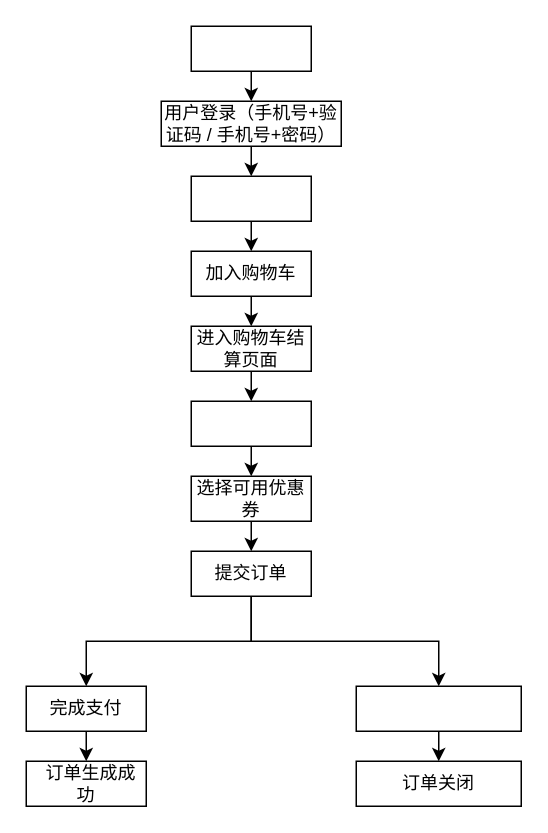
The diagram is 548 pixels wide and 833 high, and some of its shapes have lost their labels. Here are the shapes that lost their labels. From the top down, the centre of each, then its label:
At pixel 250 48: "打开电商小程序".
At pixel 250 198: "浏览商品列表，选择商品".
At pixel 250 423: "选择收货地址".
At pixel 438 708: "手动取消 / 30 分钟未支付自动取消".
